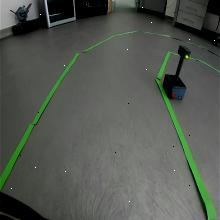green: (178, 44, 190, 60)
